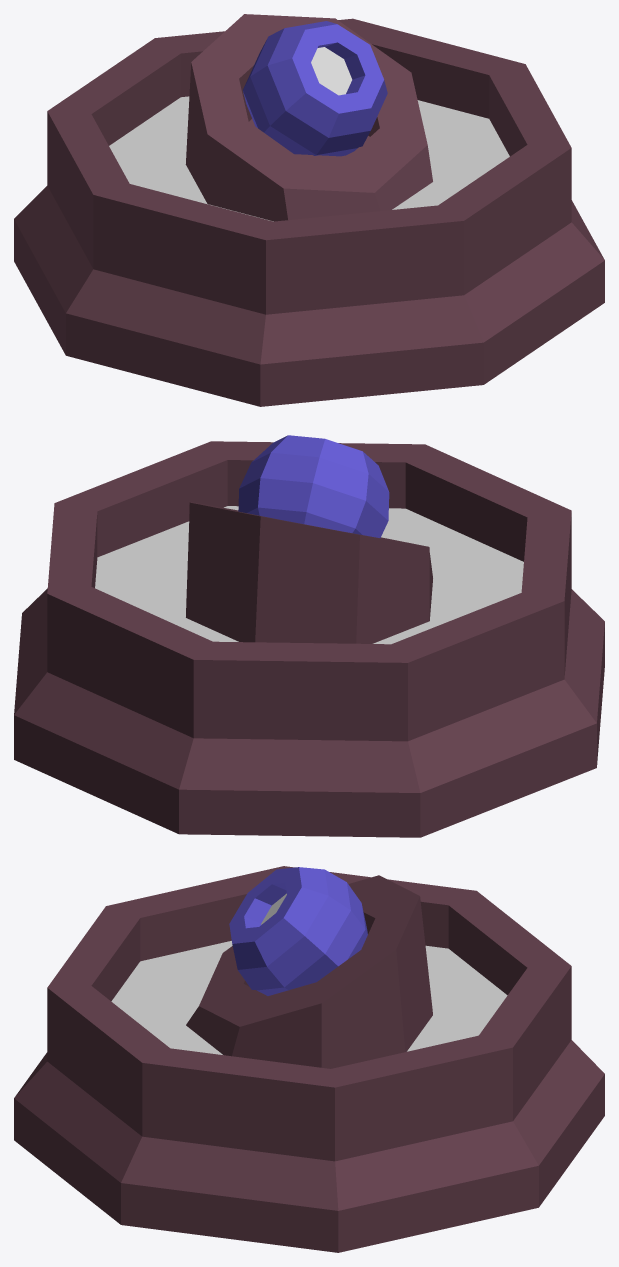
The model's file is Holográfico.fbx.
3 views of the same model, one above another, from view 1: azimuth 30°, elevation 25°; view 2: azimuth 150°, elevation 25°; view 3: azimuth 270°, elevation 25° (orthographic). The views are drawn at different scales.
Visible parts, largest first — view 1: Holografico; view 2: Holografico; view 3: Holografico.
Boxes of the visible parts, x1=… form: Holografico: x1=14, y1=14, x2=604, y2=406; Holografico: x1=14, y1=435, x2=604, y2=837; Holografico: x1=14, y1=866, x2=604, y2=1252.
Bounding box in the file's own units: 46.77 × 22.38 × 46.77.
